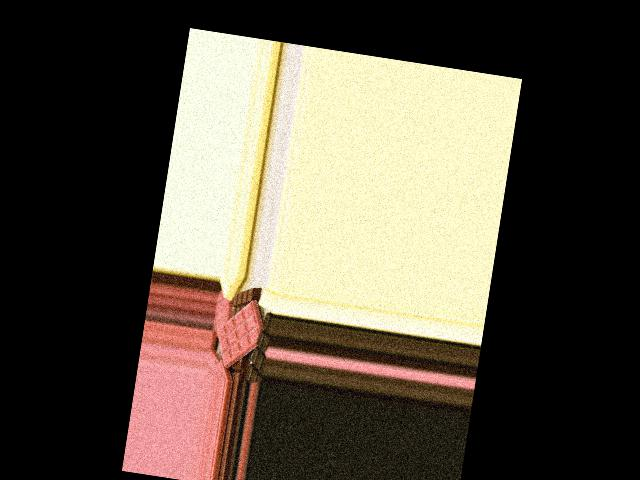chocolate: (209, 296, 275, 374)
